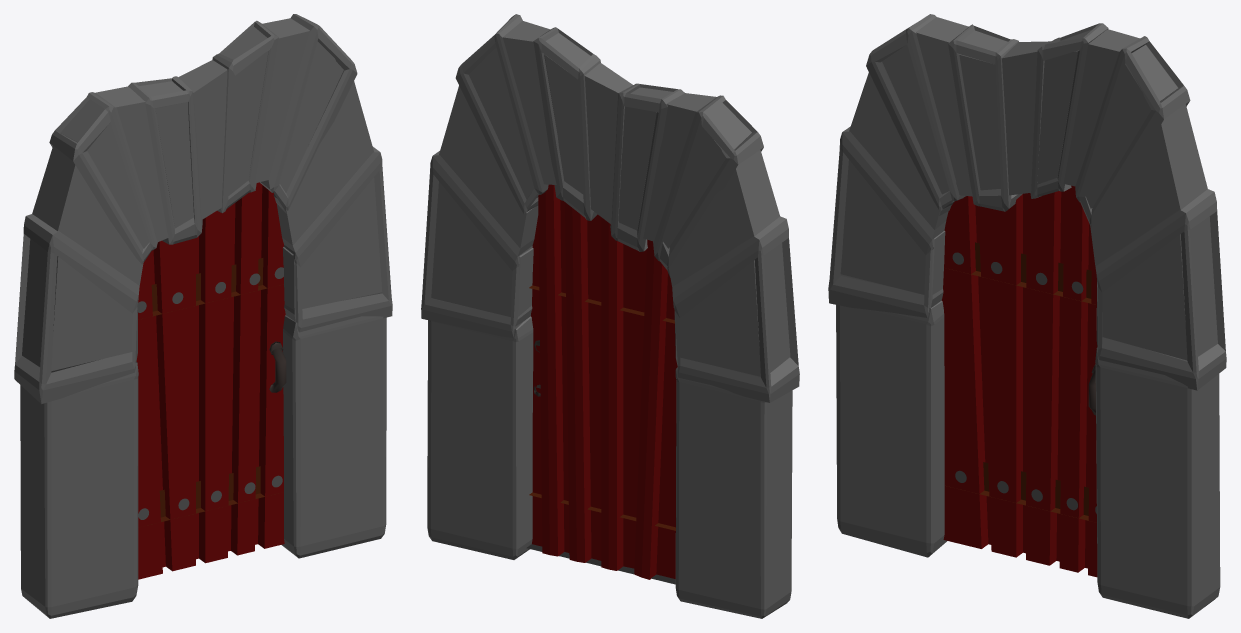
The model's file is door_red.fbx.
3 renders of one model, left to right at view 1: azimuth 30°, elevation 25°; view 2: azimuth 150°, elevation 25°; view 3: azimuth 330°, elevation 25°, orthographic. The views are drawn at different scales.
Parts seen in each view (by area): view 1: door_red; view 2: door_red; view 3: door_red.
Boxes of the visible parts, x1=… form: door_red: x1=14, y1=14, x2=392, y2=618; door_red: x1=421, y1=14, x2=799, y2=618; door_red: x1=828, y1=14, x2=1226, y2=618.
Size of the model in its own units: 315 by 451 by 44.93.
1 material, 1 textured.
